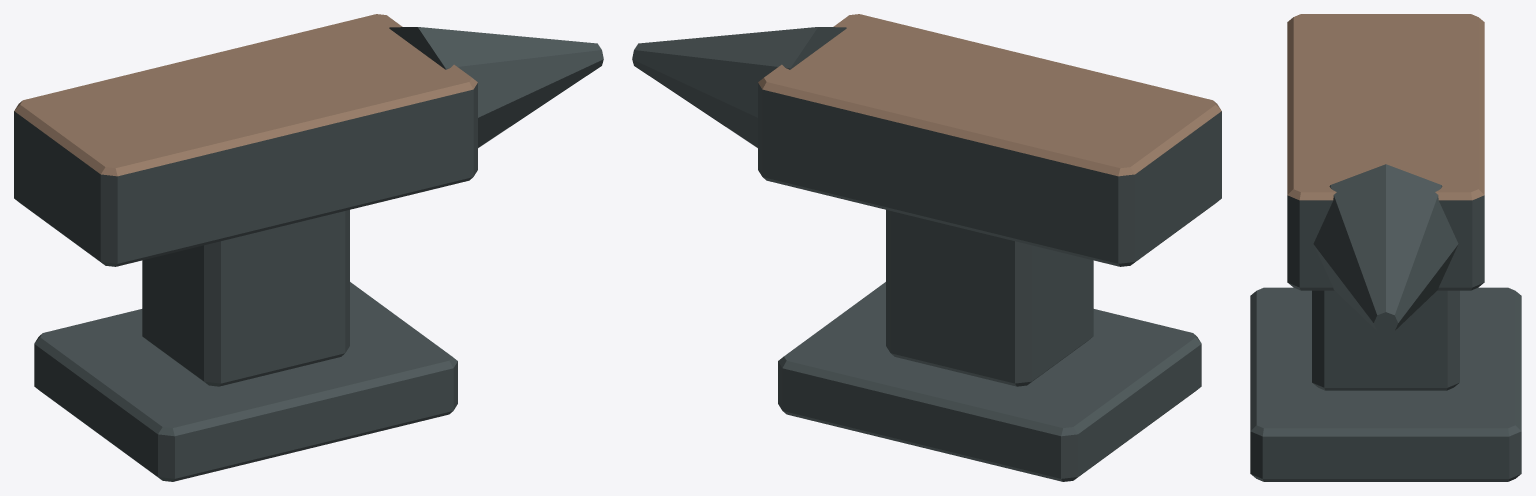
The model's file is anvil.glb.
3 views of the same model, side by side, from view 1: azimuth 30°, elevation 25°; view 2: azimuth 150°, elevation 25°; view 3: azimuth 270°, elevation 25° (orthographic).
Parts seen in each view (by area): view 1: anvil__body; view 2: anvil__body; view 3: anvil__body.
Boxes of the visible parts, <box> form: anvil__body: <box>14,14,603,481</box>; anvil__body: <box>632,14,1221,481</box>; anvil__body: <box>1250,14,1521,481</box>.
Size of the model in its own units: 1.26 by 0.74 by 0.55.
